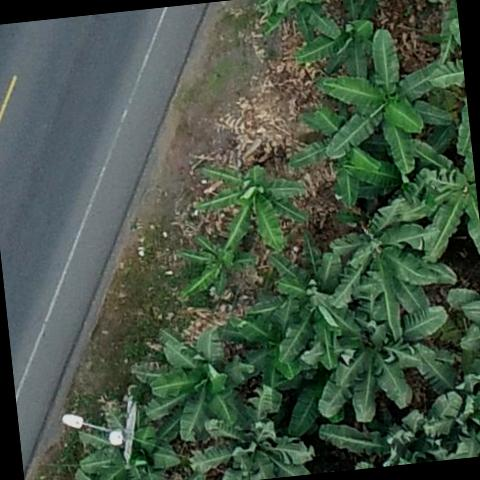Banana-plant: (304, 18, 452, 168), (320, 204, 456, 335), (378, 99, 480, 265), (298, 302, 424, 424), (134, 320, 255, 444), (173, 386, 314, 480), (195, 142, 309, 253), (266, 247, 358, 349), (288, 0, 385, 87), (154, 216, 248, 300), (233, 295, 313, 392), (70, 416, 171, 480)
